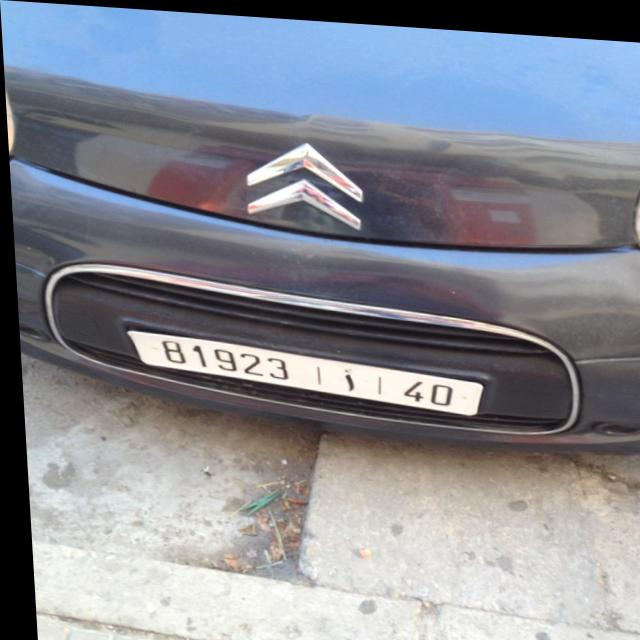License-Plate: (123, 330, 479, 409)
